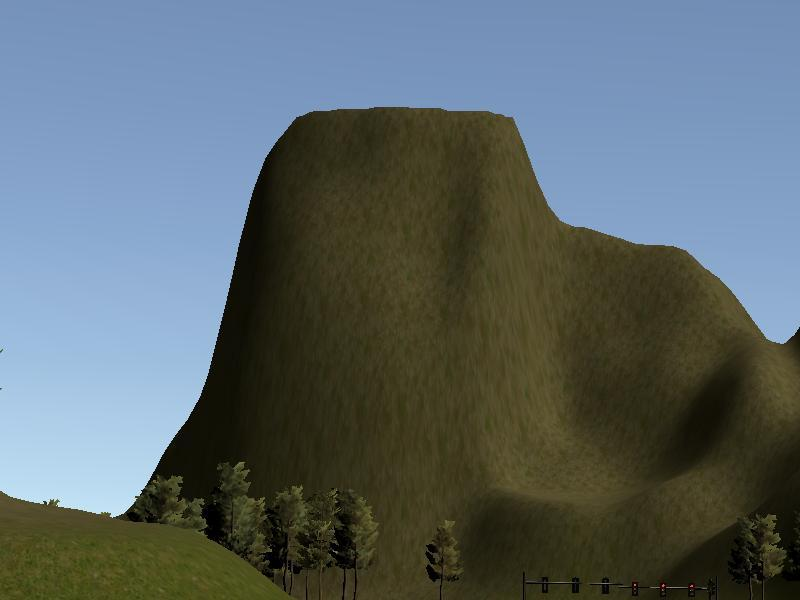Red: (658, 580, 668, 599), (687, 579, 696, 599), (631, 580, 639, 599)
